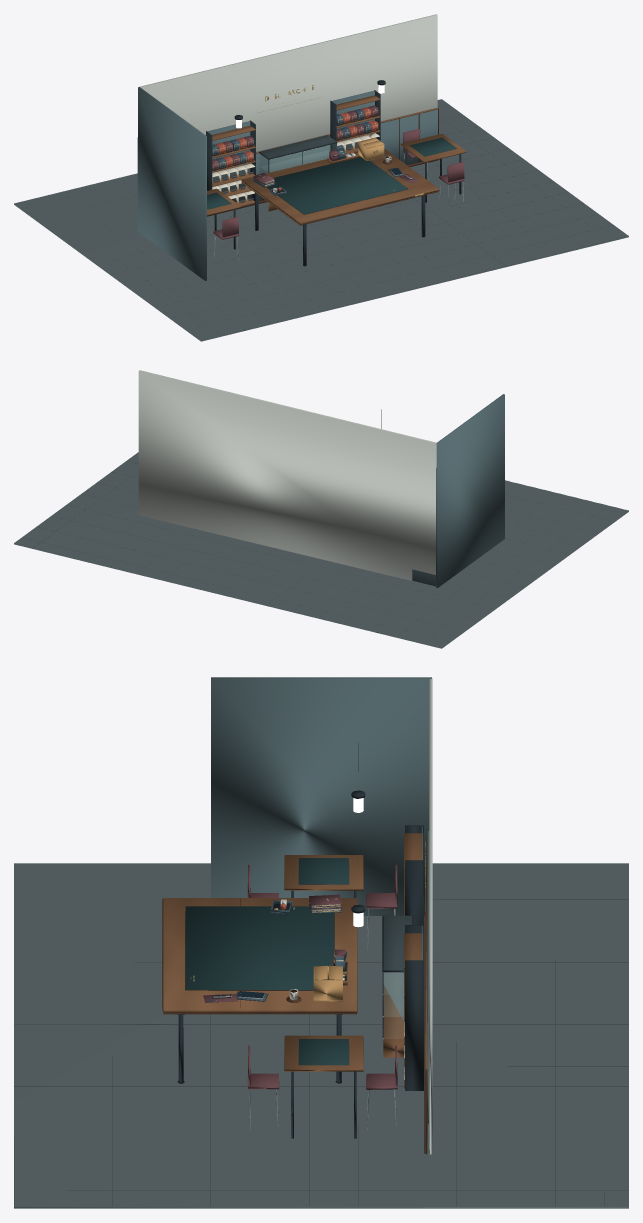
Rendered from card-shop-web.glb.
3 renders of one model, top to bottom at view 1: azimuth 30°, elevation 25°; view 2: azimuth 150°, elevation 25°; view 3: azimuth 270°, elevation 25°, orthographic. The views are drawn at different scales.
Visible parts, largest first — view 1: Room / Floor charcoal tile, Room / Warm plaster, Room / Shop wall panels, Mat / Woven teal mat, Desk / Oiled walnut, Room / Oiled walnut, Room / Graphite metal, Room / Oxblood leather, Room / Cabinet glass, Room / Warm card paper, Room / Blue leather, Room / Woven teal mat (+3 smaller); view 2: Room / Warm plaster, Room / Floor charcoal tile, Room / Shop wall panels; view 3: Room / Floor charcoal tile, Room / Shop wall panels, Mat / Woven teal mat, Desk / Oiled walnut, Room / Graphite metal, Room / Oiled walnut, Room / Fine charcoal printing, Room / Woven teal mat, Room / Oxblood leather, Room / Cabinet glass, Room / Warm plaster, Room / End grain walnut (+1 smaller).
Boxes of the visible parts, box(x1,y1,x2,y2) form: Room / Floor charcoal tile: box(14, 99, 628, 341); Room / Warm plaster: box(139, 14, 437, 151); Room / Shop wall panels: box(137, 87, 437, 280); Mat / Woven teal mat: box(267, 156, 408, 214); Desk / Oiled walnut: box(241, 149, 439, 224); Room / Oiled walnut: box(207, 95, 466, 215); Room / Graphite metal: box(206, 80, 461, 249); Room / Oxblood leather: box(212, 105, 464, 239); Room / Cabinet glass: box(261, 136, 335, 172); Room / Warm card paper: box(212, 99, 379, 204); Room / Blue leather: box(212, 109, 371, 202); Room / Woven teal mat: box(207, 137, 457, 209); Room / Warm plaster: box(138, 370, 436, 586); Room / Floor charcoal tile: box(14, 452, 628, 648); Room / Shop wall panels: box(412, 394, 504, 587); Room / Floor charcoal tile: box(14, 863, 628, 1208); Room / Shop wall panels: box(211, 677, 431, 1153); Mat / Woven teal mat: box(186, 906, 334, 989); Desk / Oiled walnut: box(162, 898, 357, 1013); Room / Graphite metal: box(291, 743, 423, 1138); Room / Oiled walnut: box(284, 833, 427, 1088); Room / Fine charcoal printing: box(14, 899, 628, 1205); Room / Woven teal mat: box(298, 858, 349, 1065); Room / Oxblood leather: box(247, 864, 397, 1089); Room / Cabinet glass: box(384, 916, 411, 1020); Room / Warm plaster: box(429, 678, 432, 1154); Room / End grain walnut: box(404, 835, 427, 1154).
Size of the model in its own units: 66 by 21.47 by 50.01.
Materials: 25 (1 with a texture image).
